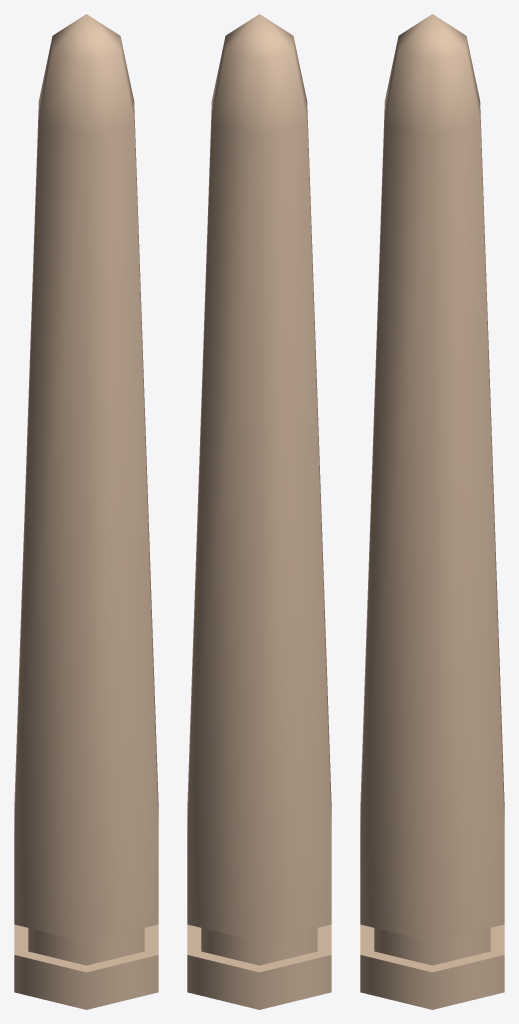
File: bullet_rifle.fbx
3 renders of one model, left to right at view 1: azimuth 30°, elevation 25°; view 2: azimuth 150°, elevation 25°; view 3: azimuth 270°, elevation 25°, orthographic.
Visible parts, largest first — view 1: RifleBullet; view 2: RifleBullet; view 3: RifleBullet.
Part boxes in pixels (x1=…): RifleBullet: x1=14, y1=14, x2=158, y2=1009; RifleBullet: x1=187, y1=14, x2=331, y2=1009; RifleBullet: x1=360, y1=14, x2=504, y2=1009.
Bounding box in the file's own units: 0.6 × 3.82 × 0.5196.
Materials: 1 (1 with a texture image).
